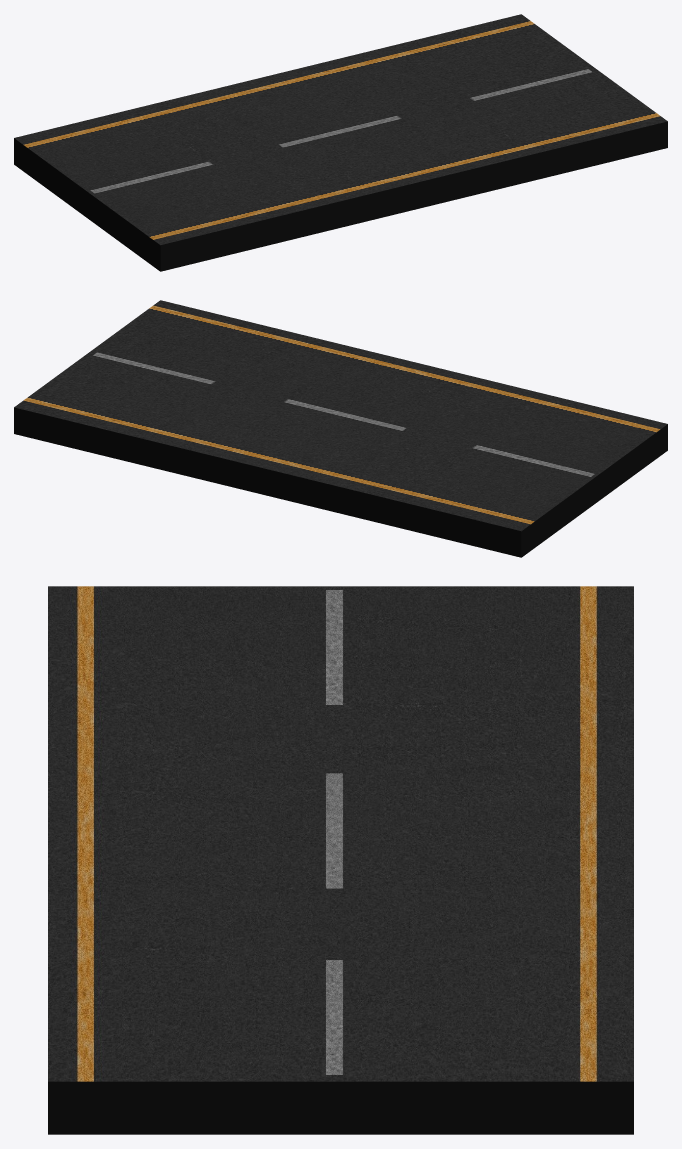
Rendered from StraightRoad.FBX.
3 views of the same model, one above another, from view 1: azimuth 30°, elevation 25°; view 2: azimuth 150°, elevation 25°; view 3: azimuth 270°, elevation 25° (orthographic). The views are drawn at different scales.
Visible parts, largest first — view 1: Box001; view 2: Box001; view 3: Box001.
Boxes of the visible parts, bbox=[...] form: Box001: bbox=[14, 14, 667, 271]; Box001: bbox=[14, 300, 667, 557]; Box001: bbox=[48, 586, 633, 1134].
Bounding box in the file's own units: 60 × 3 × 30.
Materials: 2 (1 with a texture image).
